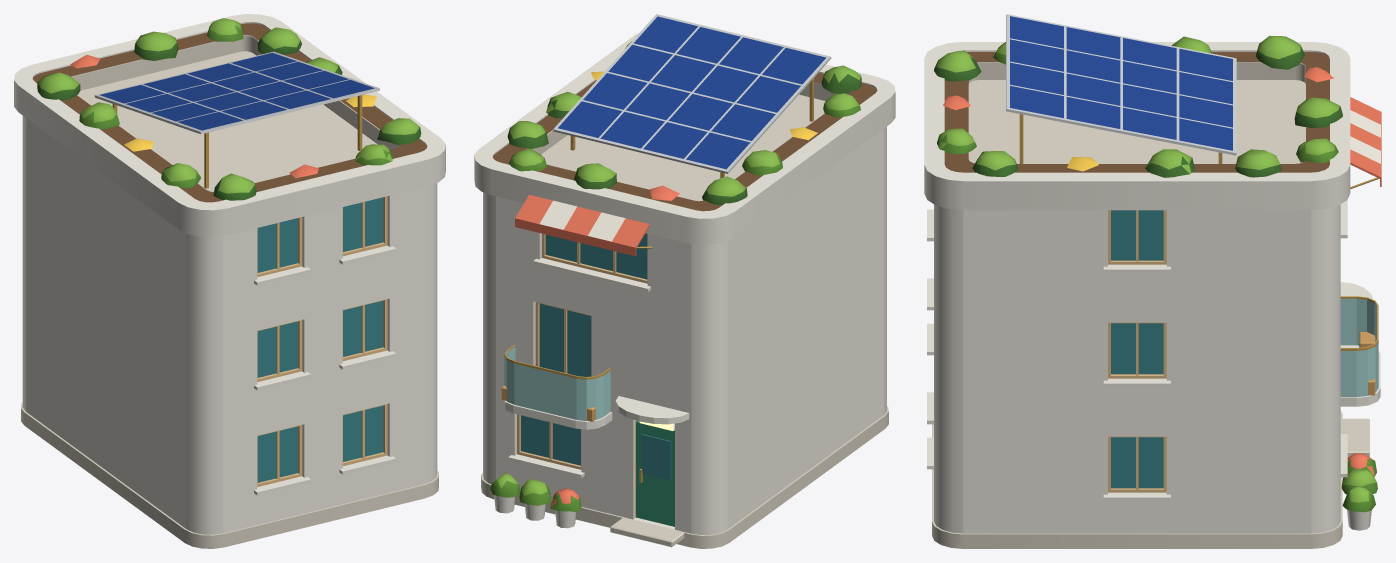
File: house_a.glb
The picture shows the model from 3 angles, left to right: view 1: azimuth 30°, elevation 25°; view 2: azimuth 150°, elevation 25°; view 3: azimuth 270°, elevation 25°; orthographic projection. The views are drawn at different scales.
Parts seen in each view (by area): view 1: house, plants; view 2: house, plants; view 3: house, plants.
Part boxes in pixels (x1,y1,x2,y2): house: (14,14,445,548); plants: (37,18,421,200); house: (474,14,895,548); plants: (490,41,861,528); house: (924,14,1381,548); plants: (934,35,1377,530).
Bounding box in the file's own units: 6.16 × 8.68 × 8.55.
